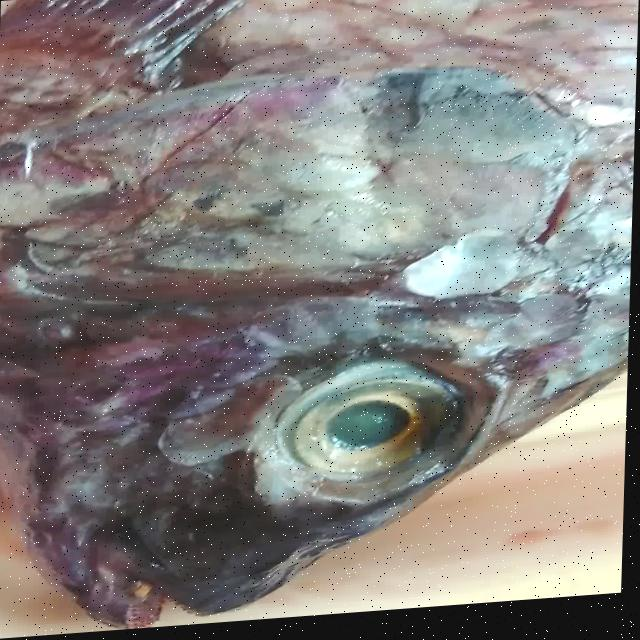Non-Fresh: (26, 0, 640, 338), (250, 349, 510, 538)
